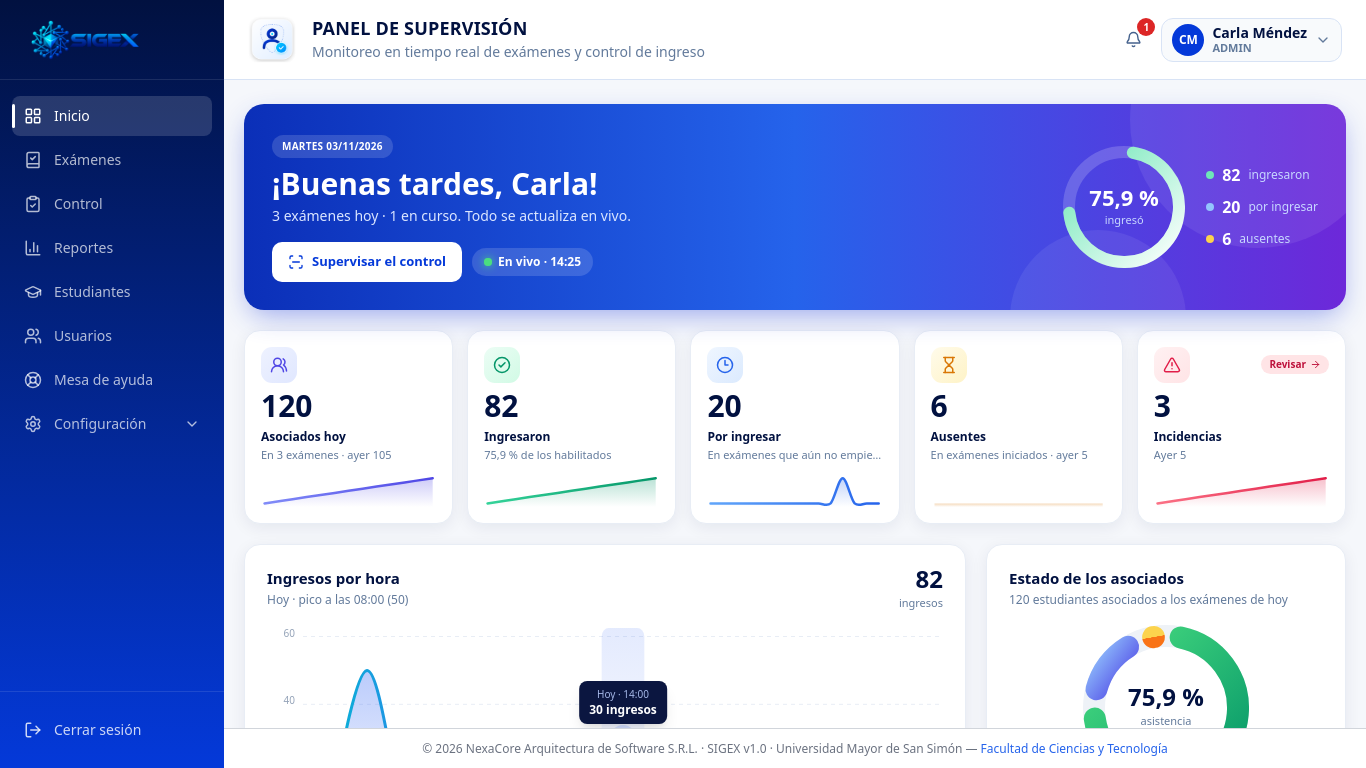
Test: InicioAdminPage › al iniciar sesión el ADMIN llega a su inicio con el resumen del día
Expected: the heading "¡Buenas tardes, Carla!" is shown, [272,168,631,200]
Expected: the text "3 exámenes hoy · 1 en curso. Todo se actualiza en vivo." is shown, [272,206,631,226]
Click the button with aria-label "Revisar las incidencias de hoy" at (1295, 364), box [1261,355,1329,374]
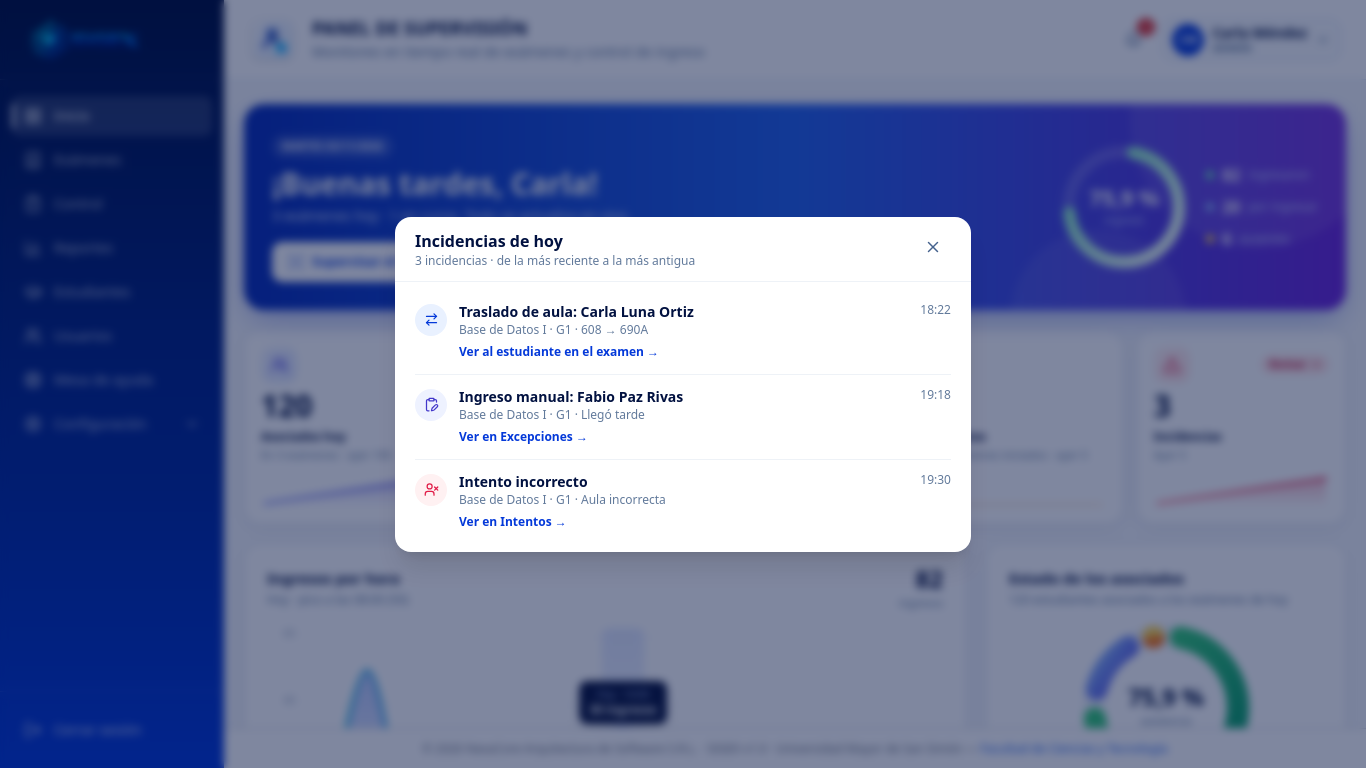
Expected: the list item that starts with "Traslado de aula" shows "Traslado de aula: Carla Luna Ortiz", [415,290,951,374]
Expected: the list item that starts with "Traslado de aula" shows "608 → 690A", [572,320,648,338]
Expected: the list item that starts with "Ingreso manual" shows "Ingreso manual: Fabio Paz Rivas", [415,374,951,458]
Click the button named "Cerrar" at (933, 246), box [915,228,951,264]
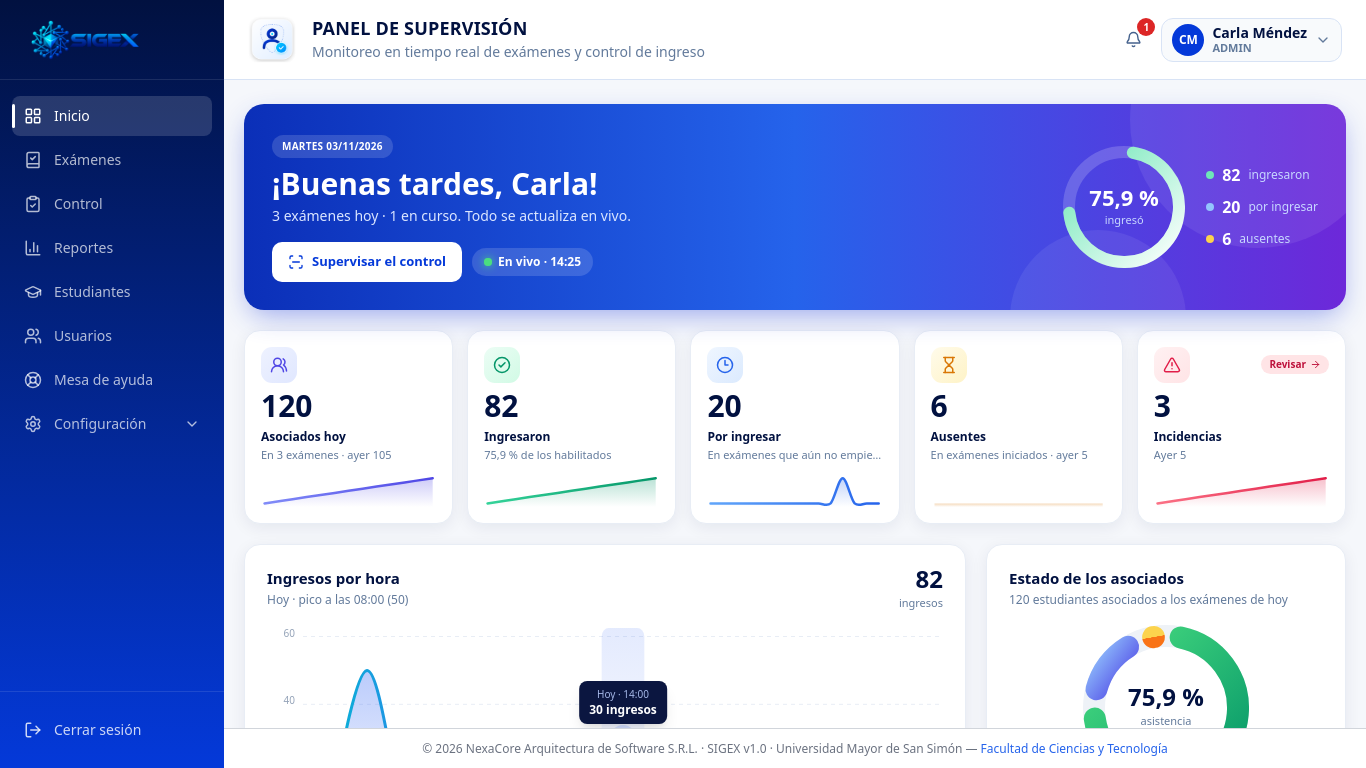
Expected: the text "75,9 %" in the row of ", Carla" is shown, [1089,182,1159,212]
Expected: the dialog is gone
